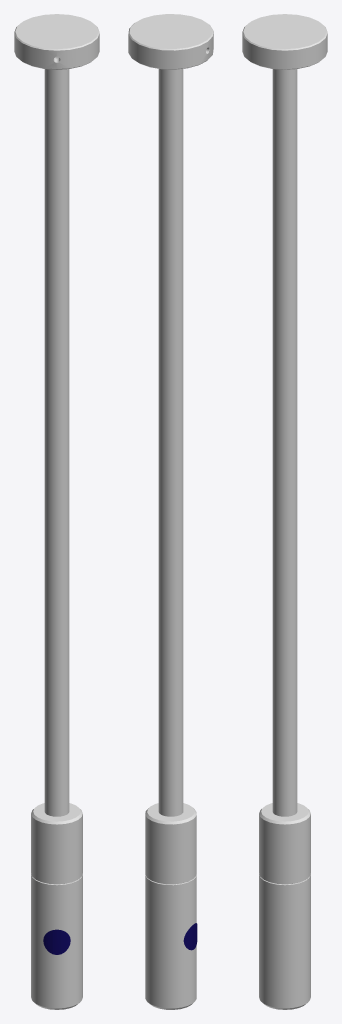
The model's file is CP3PlungerMesh.obj.
The picture shows the model from 3 angles, left to right: view 1: azimuth 90°, elevation 25°; view 2: azimuth 150°, elevation 25°; view 3: azimuth 270°, elevation 25°; orthographic projection.
Visible parts, largest first — view 1: Temp10:PlungerMesh; view 2: Temp10:PlungerMesh; view 3: Temp10:PlungerMesh.
Boxes of the visible parts, x1=… form: Temp10:PlungerMesh: x1=14, y1=14, x2=99, y2=1009; Temp10:PlungerMesh: x1=128, y1=14, x2=213, y2=1009; Temp10:PlungerMesh: x1=242, y1=14, x2=327, y2=1009.
Size of the model in its own units: 3.19 by 39.83 by 3.19.
Materials: 1 (1 with a texture image).
